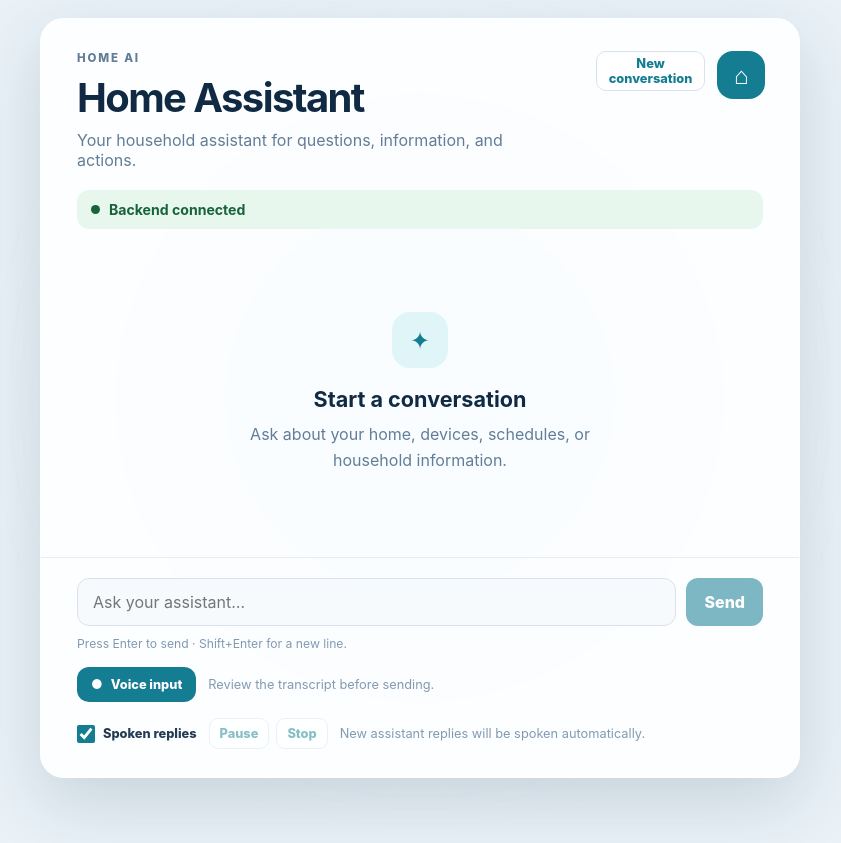
Test: App voice output integration › speaks a successful live assistant reply exactly once
Type "Is the kitchen light on?" into the text box named "Message".
click(377, 602); type("Is the kitchen light on?")  # box [77,578,676,626]
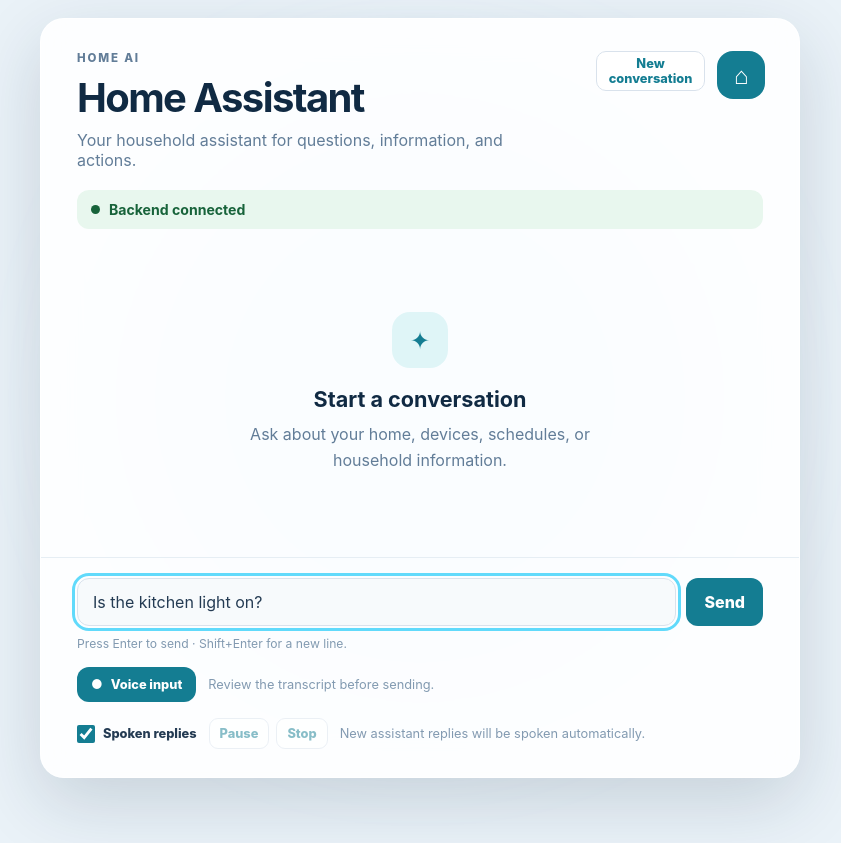
Click the button with aria-label "Send message".
click(725, 602)  # box [686,578,763,626]
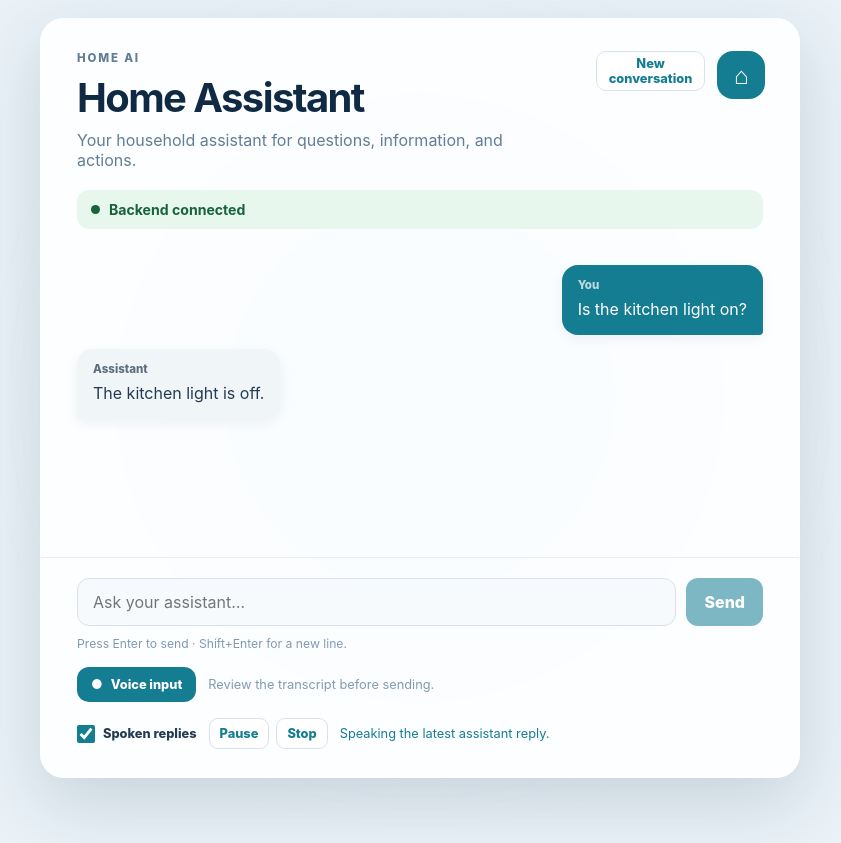
Now the text "The kitchen light is off." is shown, box [93,381,264,406]
